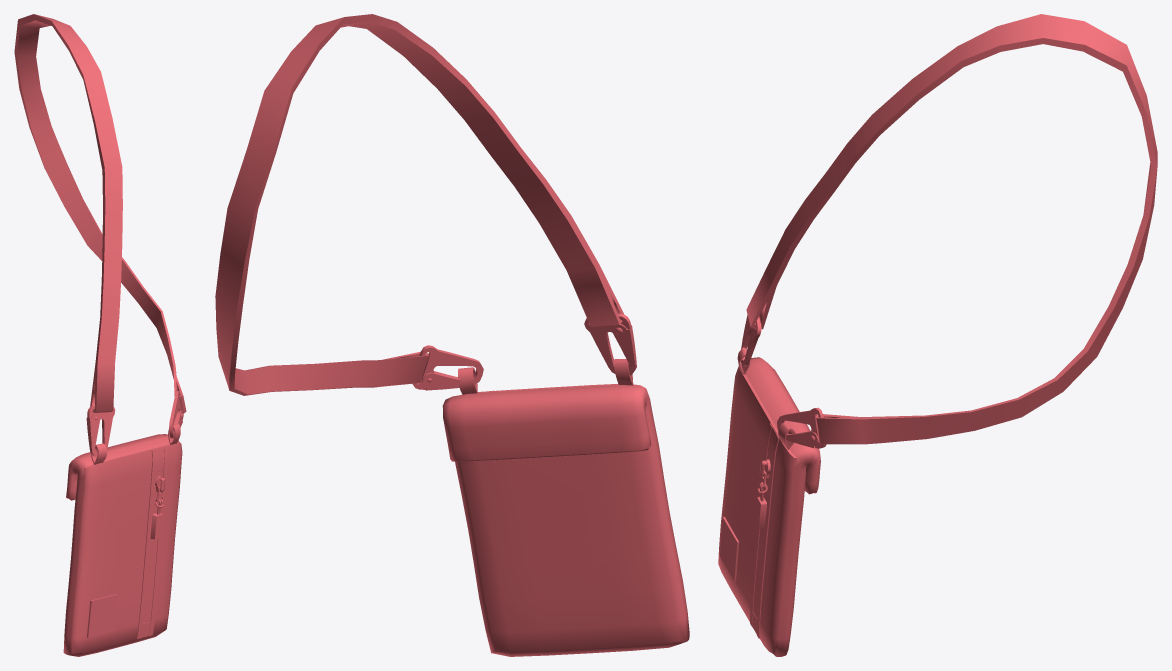
The model's file is red-bag.glb.
3 renders of one model, left to right at view 1: azimuth 30°, elevation 25°; view 2: azimuth 150°, elevation 25°; view 3: azimuth 270°, elevation 25°, orthographic. The views are drawn at different scales.
Parts seen in each view (by area): view 1: Toca bag; view 2: Toca bag; view 3: Toca bag.
Part boxes in pixels (bbox=[...]): Toca bag: bbox=[14, 14, 186, 656]; Toca bag: bbox=[215, 14, 689, 656]; Toca bag: bbox=[718, 14, 1157, 656].
Size of the model in its own units: 0.1398 by 0.3583 by 0.2218.
